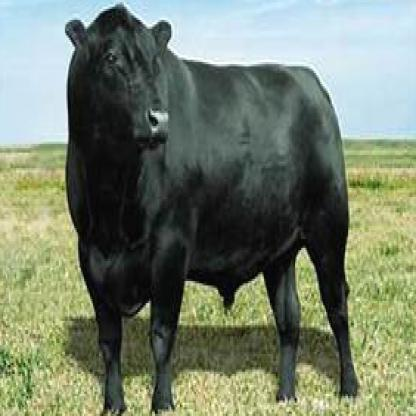cow: (63, 2, 358, 414)
